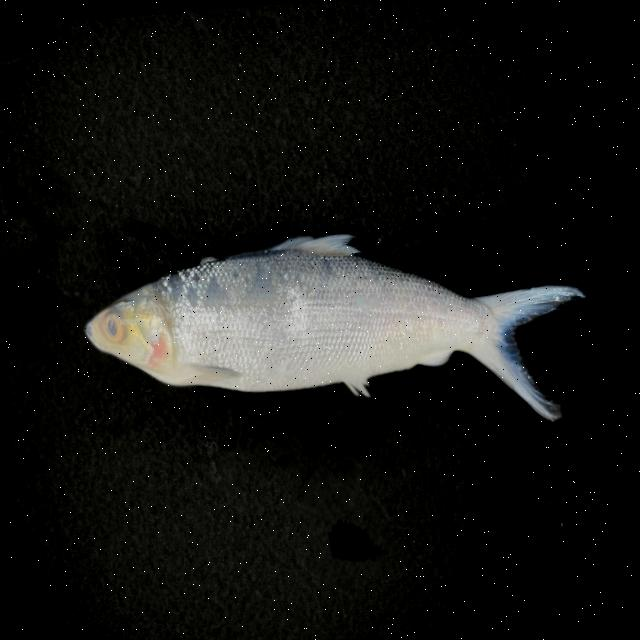550 g: (75, 212, 596, 462)
